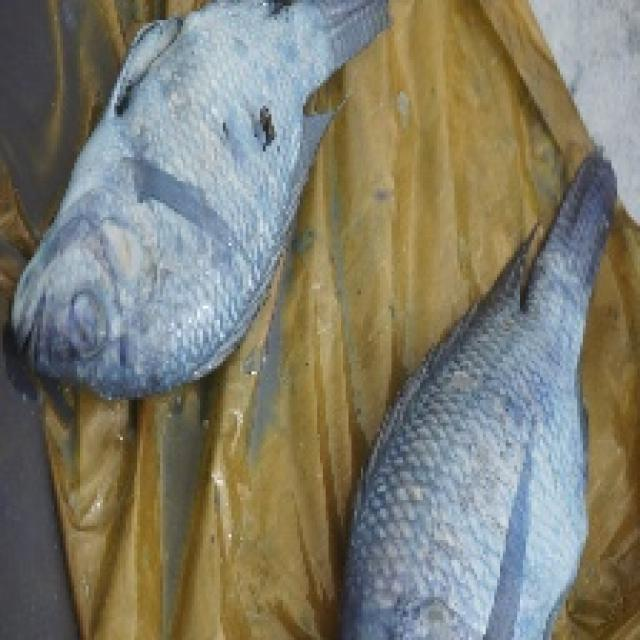Non-Fresh: (35, 12, 320, 441)
